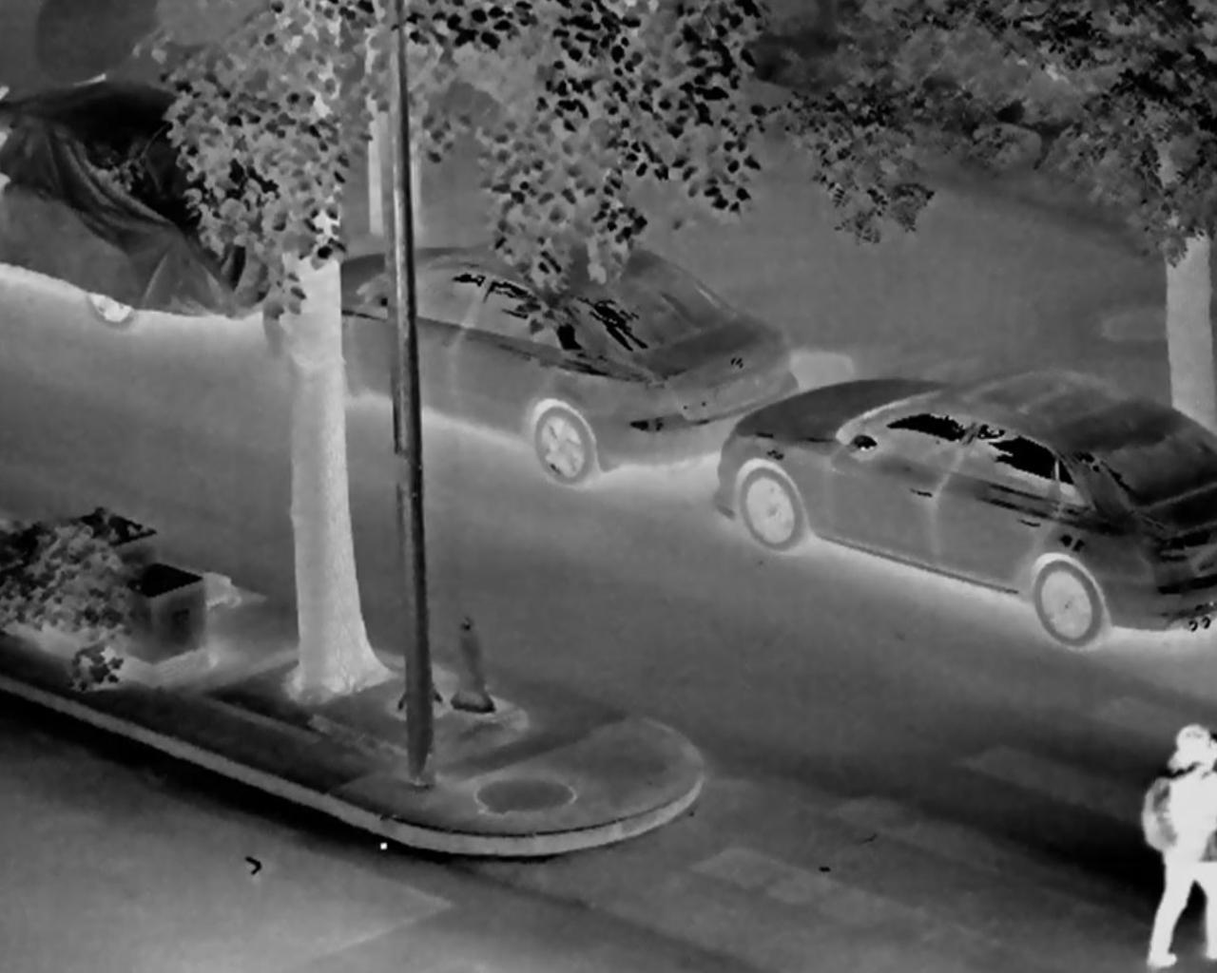person: (1140, 720, 1216, 973)
